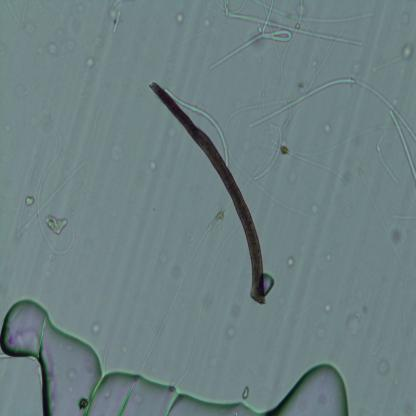Air bubble: (0, 300, 350, 416), (262, 272, 276, 297)
Background material: (54, 14, 82, 57), (349, 304, 369, 337), (42, 214, 69, 238), (387, 224, 406, 247), (398, 43, 416, 63), (318, 244, 334, 264), (376, 360, 392, 378), (90, 318, 105, 336), (142, 156, 158, 172), (225, 324, 238, 340), (112, 146, 124, 163), (240, 383, 251, 401), (174, 10, 186, 26), (47, 42, 59, 57), (84, 55, 95, 70), (285, 254, 295, 269), (310, 202, 317, 218), (26, 197, 36, 207), (26, 22, 35, 33), (324, 302, 332, 314)
Glass filter fibre: (138, 202, 236, 376), (248, 76, 416, 142), (14, 113, 84, 254), (210, 1, 293, 71), (224, 9, 362, 46), (164, 86, 230, 163), (274, 139, 347, 181), (280, 0, 305, 104), (253, 1, 374, 22), (388, 110, 416, 183), (253, 127, 283, 181), (6, 0, 30, 28), (113, 9, 122, 37)
Microfibre: (150, 83, 266, 305)
